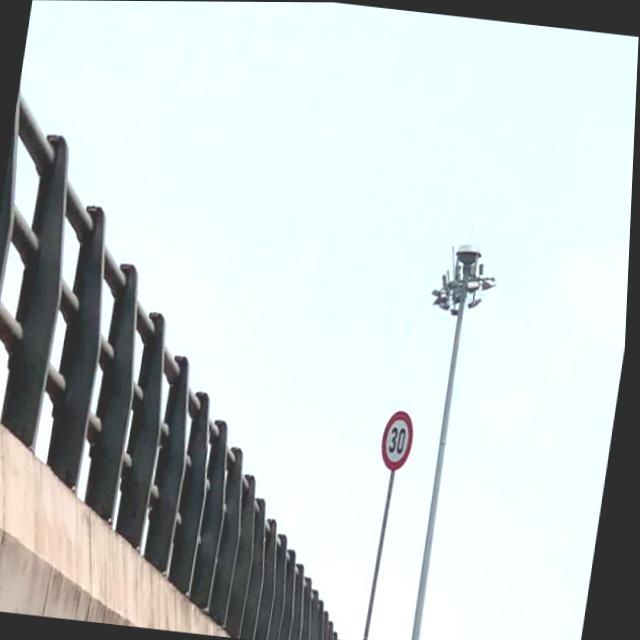Toc do toi da cho phep: (381, 407, 421, 472)
